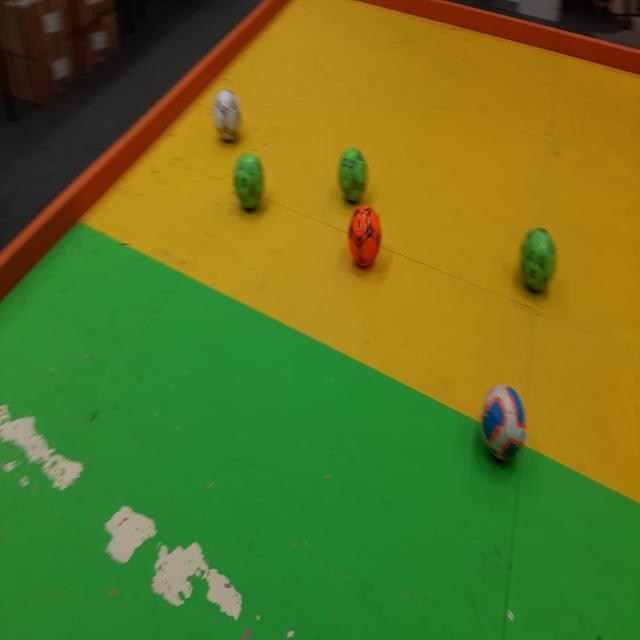ball: (484, 384, 526, 466), (520, 228, 557, 296), (348, 206, 382, 270), (234, 153, 264, 212), (338, 150, 370, 201), (214, 89, 242, 145)
